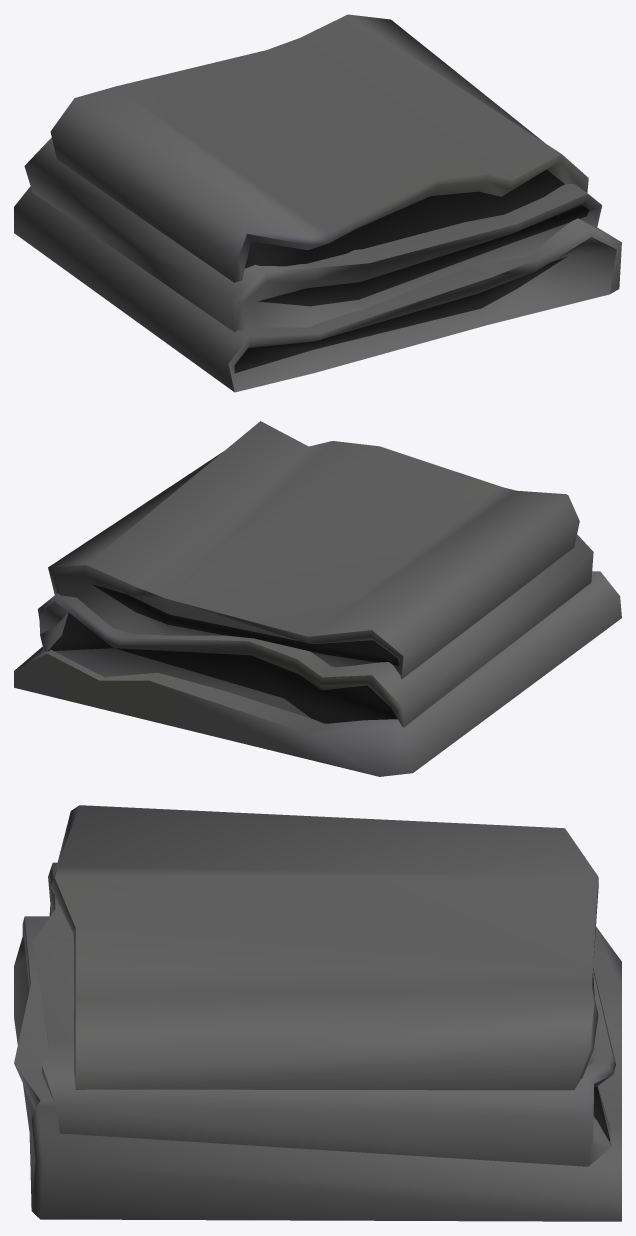
Rendered from clothes_002.glb.
3 renders of one model, top to bottom at view 1: azimuth 30°, elevation 25°; view 2: azimuth 150°, elevation 25°; view 3: azimuth 270°, elevation 25°, orthographic. The views are drawn at different scales.
Parts seen in each view (by area): view 1: clothes_002; view 2: clothes_002; view 3: clothes_002.
Part boxes in pixels (<box>): clothes_002: <box>14,14,621,392</box>; clothes_002: <box>14,421,621,776</box>; clothes_002: <box>14,805,621,1221</box>.
Size of the model in its own units: 0.383 by 0.1276 by 0.383.
Materials: 1 (1 with a texture image).
